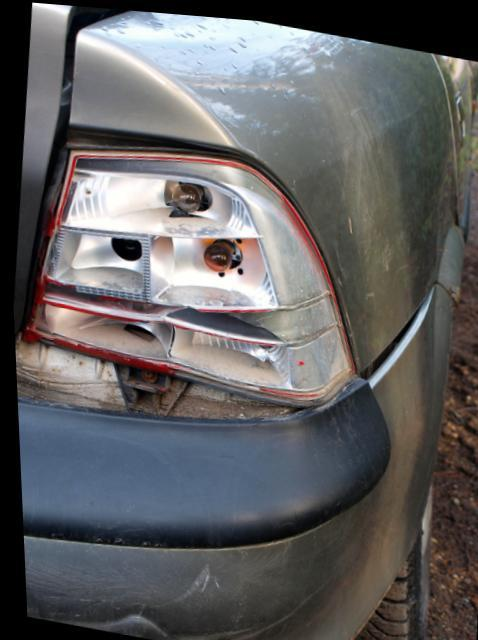lamp broken: (22, 142, 355, 404)
